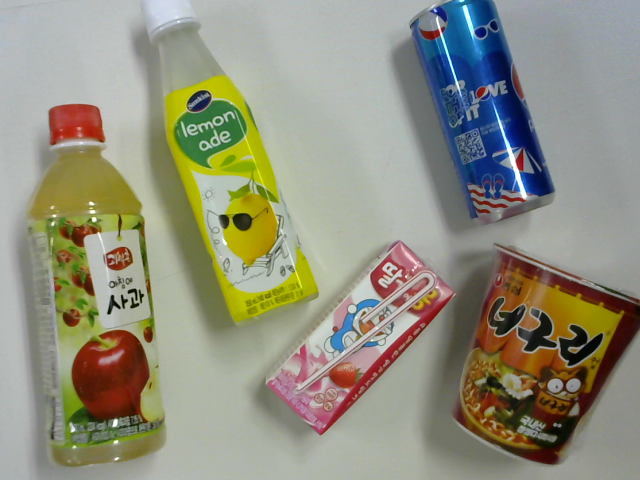Morning_Apple_500ml: (27, 96, 173, 474)
Pepsi_Cola_Can_250ml: (409, 2, 553, 220)
Raccoon: (459, 244, 640, 463)
Strawberry_E_Mong: (271, 240, 449, 442)
Sunkist_Lemonaid_Pet: (141, 4, 321, 320)
